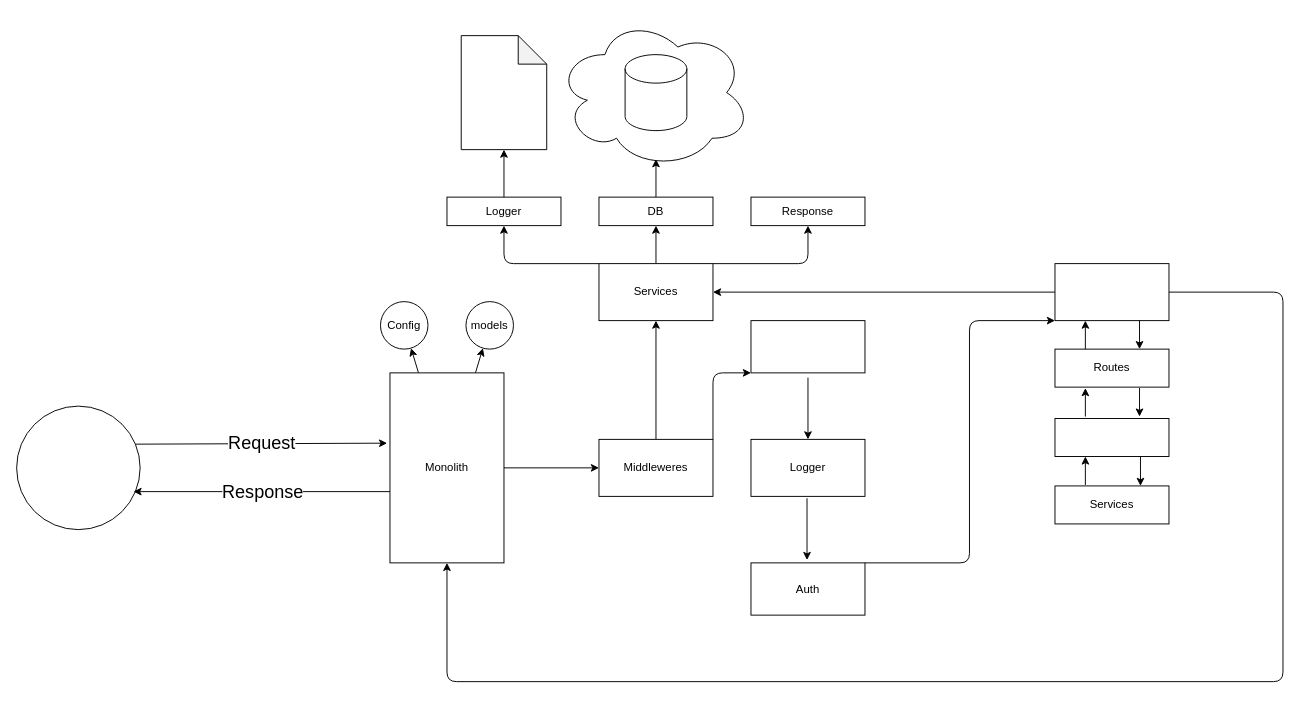
Image size: 1307x706. Some labels were removed from this diagram. The box of each missing label's shape, as (x1, y1, x2, y2) in pixels:
API: (1054, 263, 1169, 321)
Client: (16, 405, 140, 530)
Controllers: (1054, 418, 1169, 456)
Log: (460, 35, 547, 150)
Mongo Atlas: (624, 54, 687, 131)
Session: (750, 320, 865, 373)
